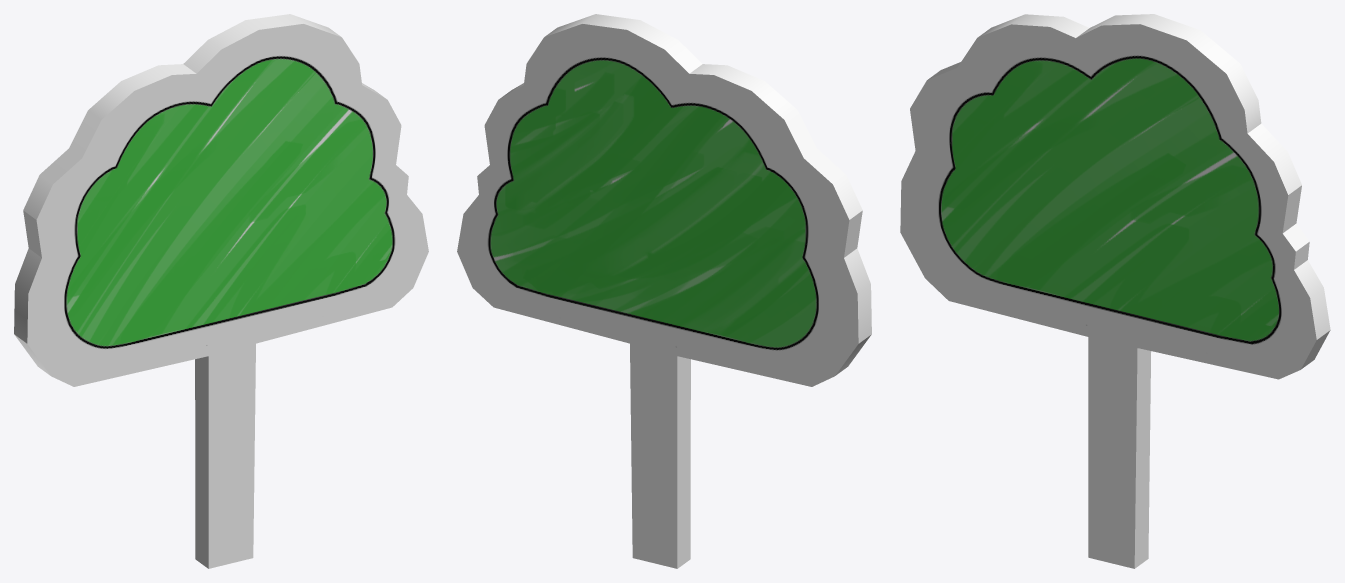
Rendered from bush.fbx.
3 views of the same model, side by side, from view 1: azimuth 30°, elevation 25°; view 2: azimuth 150°, elevation 25°; view 3: azimuth 330°, elevation 25° (orthographic). The views are drawn at different scales.
Visible parts, largest first — view 1: bush; view 2: bush; view 3: bush.
Boxes of the visible parts, x1,y1,x2,y2 form: bush: (14, 14, 428, 568); bush: (457, 14, 871, 568); bush: (900, 14, 1330, 568).
Size of the model in its own units: 14.2 by 17.8 by 0.8179.
